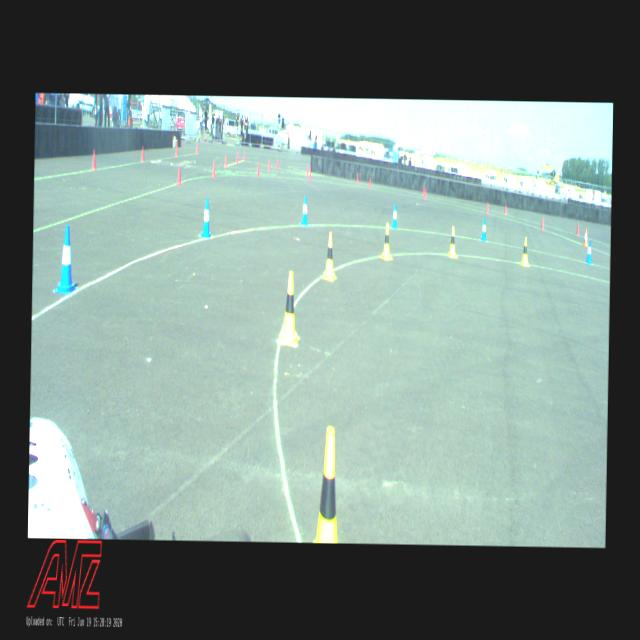blue_cone: (54, 226, 78, 294), (200, 196, 212, 238), (301, 195, 308, 226), (392, 204, 398, 228), (481, 218, 486, 242), (586, 240, 591, 264)
orange_cone: (583, 228, 588, 246)
unknown_cone: (176, 164, 182, 184), (211, 160, 215, 177), (92, 149, 95, 169), (575, 222, 579, 235), (308, 168, 312, 181), (140, 148, 144, 160), (224, 154, 228, 166), (540, 217, 543, 230), (368, 178, 371, 189), (256, 162, 258, 178), (268, 159, 270, 172), (236, 152, 238, 164), (356, 172, 358, 184), (486, 202, 488, 214), (306, 164, 308, 175), (196, 144, 198, 154), (243, 150, 245, 160), (276, 158, 278, 168)
yellow_cone: (312, 428, 338, 542), (279, 274, 298, 344), (322, 232, 336, 279), (381, 222, 392, 258), (448, 225, 457, 258), (520, 237, 529, 266)
